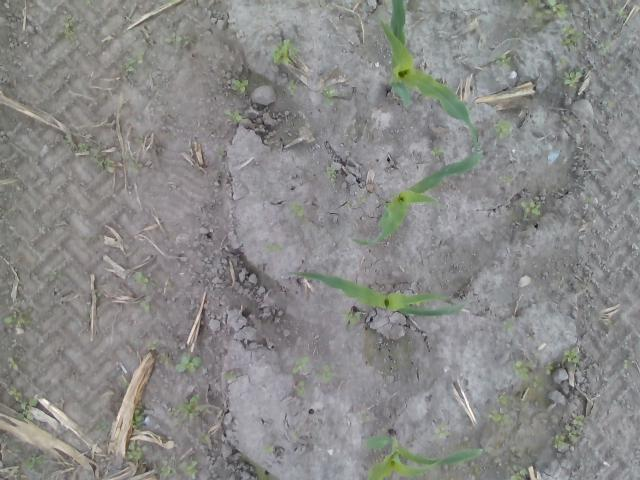Maize: (378, 0, 479, 150), (350, 152, 482, 248), (286, 270, 469, 318), (365, 426, 486, 480)
Weeds: (552, 414, 584, 451), (512, 360, 554, 386), (8, 386, 36, 422), (486, 393, 514, 426), (536, 0, 567, 26), (1, 304, 33, 329), (170, 392, 200, 417), (272, 38, 300, 64), (561, 23, 584, 49), (120, 51, 144, 74), (176, 353, 202, 374), (519, 198, 545, 218), (154, 459, 177, 479), (559, 70, 583, 89), (22, 452, 47, 470), (130, 336, 160, 350), (95, 146, 114, 168), (125, 440, 144, 461), (494, 119, 512, 141), (163, 32, 190, 46), (344, 193, 367, 209), (314, 368, 335, 384), (292, 356, 310, 374), (562, 346, 580, 364), (183, 460, 199, 480), (130, 407, 144, 429), (288, 200, 305, 218), (509, 464, 528, 480), (432, 424, 450, 440), (322, 85, 337, 104), (62, 15, 74, 38), (263, 240, 284, 253), (133, 270, 150, 286), (495, 430, 510, 448), (127, 161, 144, 175), (343, 308, 360, 322), (225, 109, 242, 123), (231, 78, 248, 92), (495, 54, 512, 68), (294, 378, 306, 396), (600, 40, 612, 57), (286, 78, 297, 96), (5, 356, 18, 370), (223, 370, 241, 380), (431, 146, 445, 158), (328, 165, 336, 183), (502, 318, 512, 332), (259, 444, 274, 453), (143, 303, 155, 313), (603, 318, 615, 328), (358, 416, 369, 426), (134, 134, 144, 144), (79, 142, 88, 153), (47, 272, 63, 278), (94, 291, 102, 303), (559, 56, 570, 64), (616, 7, 624, 17), (528, 0, 538, 8), (622, 358, 629, 369), (81, 0, 96, 4), (506, 175, 513, 182)
